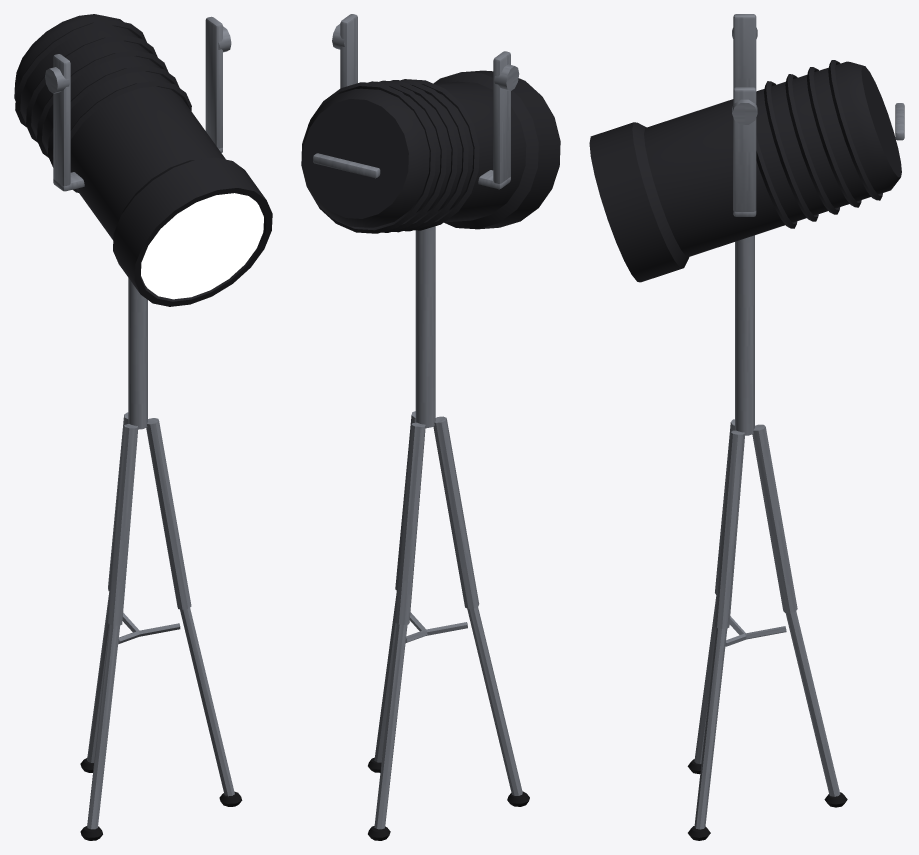
File: canhao-luz.glb
3 views of the same model, side by side, from view 1: azimuth 30°, elevation 25°; view 2: azimuth 150°, elevation 25°; view 3: azimuth 270°, elevation 25° (orthographic).
Visible parts, largest first — view 1: corpo, lente, perna-cima.001, perna-cima.002, mastro, perna-baixo.001, garfo.001, perna-baixo.002, garfo, aleta, aleta.002, aleta.001 (+4 smaller); view 2: corpo, mastro, perna-cima, perna-cima.001, perna-baixo, perna-baixo.001, garfo, aleta, aleta.004, aleta.001, aleta.003, aleta.002 (+3 smaller); view 3: corpo, mastro, perna-cima.002, perna-cima, garfo.001, perna-baixo.002, perna-baixo, garfo, aleta, aleta.002, aleta.003, aleta.001 (+2 smaller).
Part boxes in pixels (bbox=[...]): corpo: bbox=[14, 14, 272, 306]; lente: bbox=[141, 193, 263, 299]; perna-cima.001: bbox=[108, 424, 138, 625]; perna-cima.002: bbox=[146, 418, 191, 609]; mastro: bbox=[128, 278, 147, 429]; perna-baixo.001: bbox=[87, 624, 120, 829]; garfo.001: bbox=[205, 16, 222, 148]; perna-baixo.002: bbox=[180, 608, 234, 796]; garfo: bbox=[53, 54, 70, 186]; aleta: bbox=[15, 20, 146, 127]; aleta.002: bbox=[37, 50, 168, 157]; aleta.001: bbox=[26, 35, 157, 142]; corpo: bbox=[301, 70, 560, 229]; mastro: bbox=[415, 226, 435, 428]; perna-cima: bbox=[395, 422, 425, 624]; perna-cima.001: bbox=[433, 416, 479, 608]; perna-baixo: bbox=[374, 624, 407, 829]; perna-baixo.001: bbox=[467, 607, 522, 795]; garfo: bbox=[493, 51, 510, 183]; aleta: bbox=[309, 82, 435, 233]; aleta.004: bbox=[401, 79, 479, 230]; aleta.001: bbox=[368, 81, 446, 232]; aleta.003: bbox=[391, 80, 468, 231]; aleta.002: bbox=[379, 80, 457, 232]; corpo: bbox=[589, 61, 901, 282]; mastro: bbox=[735, 235, 754, 435]; perna-cima.002: bbox=[715, 430, 745, 628]; perna-cima: bbox=[752, 424, 797, 613]; garfo.001: bbox=[733, 87, 756, 211]; perna-baixo.002: bbox=[694, 628, 727, 829]; perna-baixo: bbox=[785, 611, 840, 796]; garfo: bbox=[733, 14, 756, 89]; aleta: bbox=[828, 60, 882, 200]; aleta.002: bbox=[785, 74, 840, 214]; aleta.003: bbox=[764, 81, 818, 221]; aleta.001: bbox=[807, 67, 861, 207].
Size of the model in its own units: 0.4328 by 1.83 by 0.6908.
4 materials, 2 textured.
